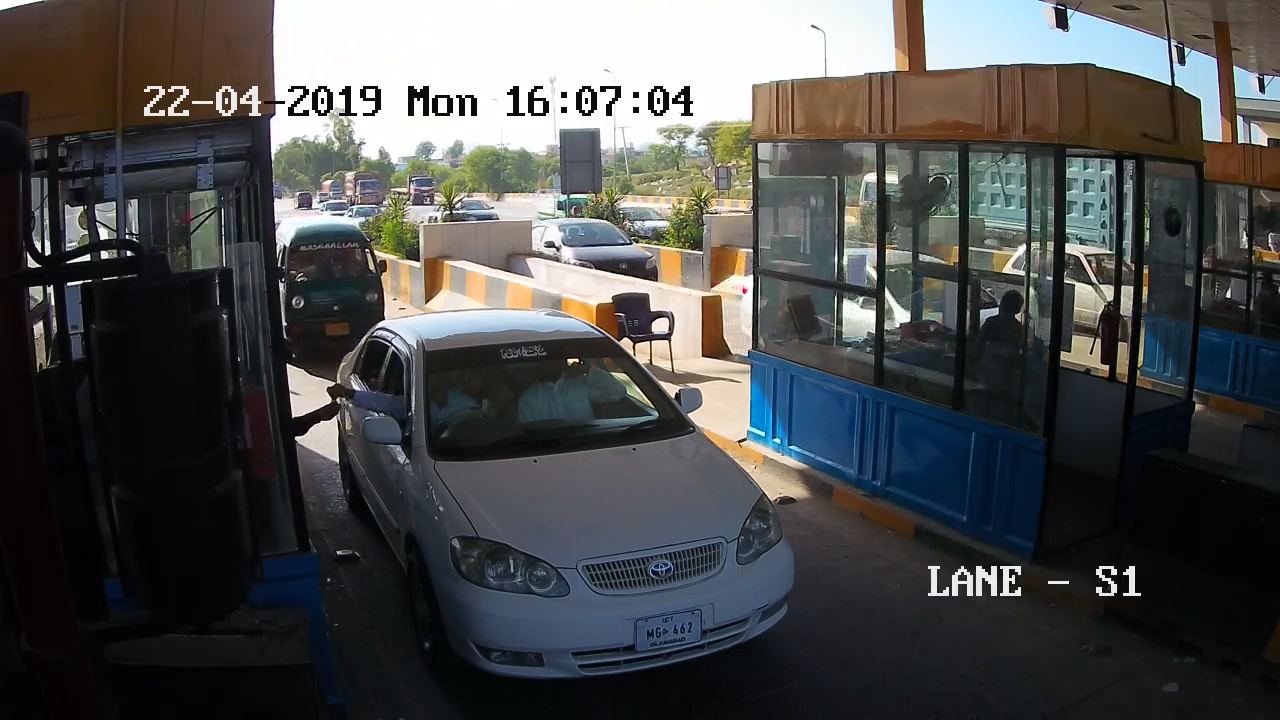Number Plate (Car): (631, 611, 703, 648), (328, 321, 350, 335)
